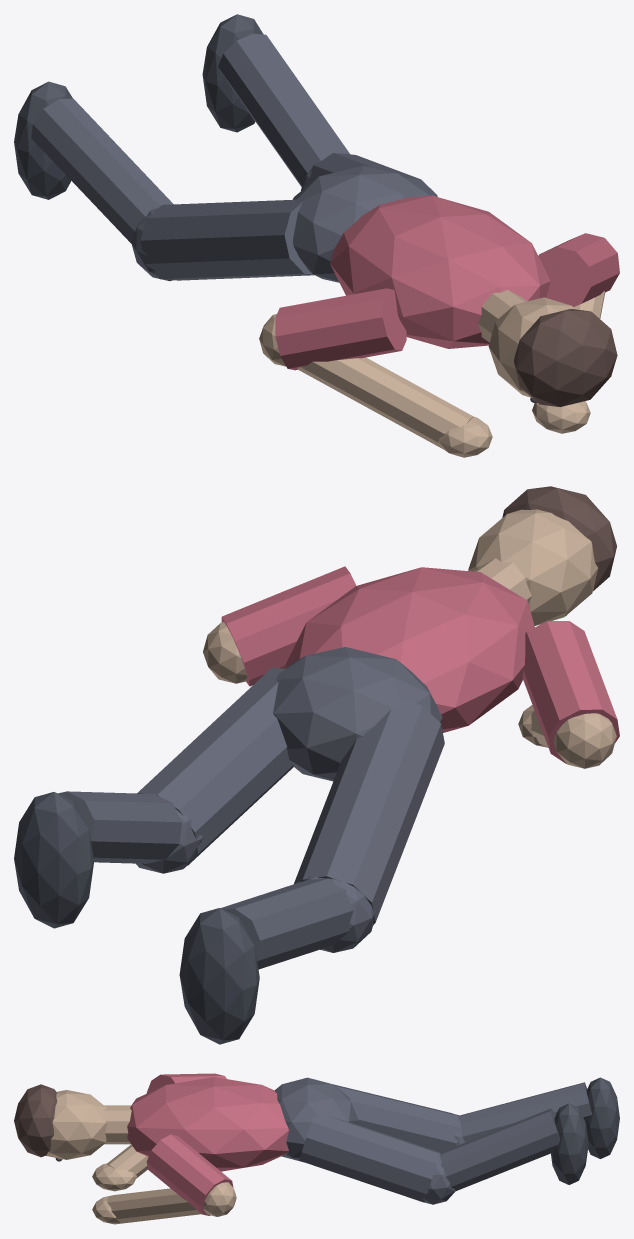
The picture shows the model from 3 angles, top to bottom: view 1: azimuth 30°, elevation 25°; view 2: azimuth 150°, elevation 25°; view 3: azimuth 270°, elevation 25°; orthographic projection. The views are drawn at different scales.
Visible parts, largest first — view 1: world; view 2: world; view 3: world.
Boxes of the visible parts, x1,y1,x2,y2 form: world: (14,14,619,457); world: (14,486,619,1044); world: (14,1073,619,1224).
Size of the model in its own units: 0.93 by 0.4412 by 2.01.
